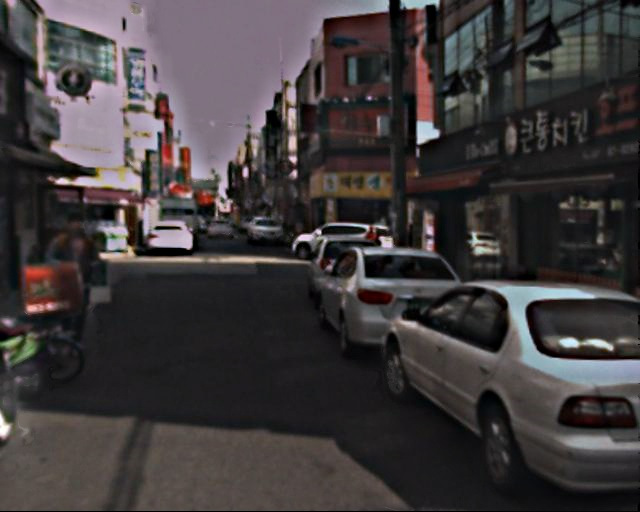person: (47, 213, 113, 361), (362, 223, 380, 268)
